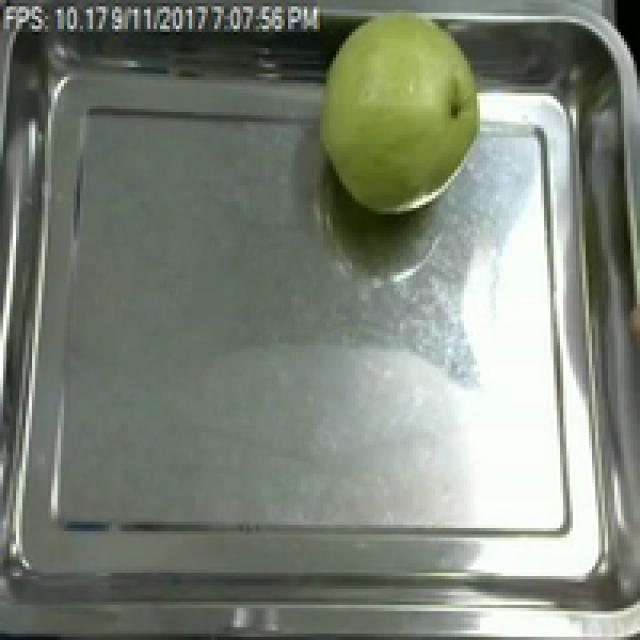Fruit: (307, 3, 493, 227)
